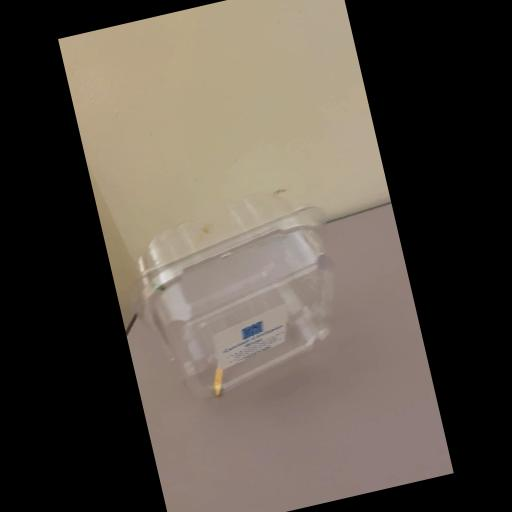small_plastic_container: (121, 181, 361, 406)
